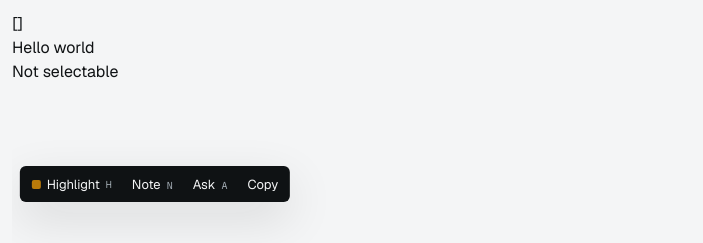
it: SelectionToolbar › Highlight adds a highlight to the store with the correct offsets and clears selection
Click the button "Highlight H" at (72,184), box [23, 169, 121, 199]
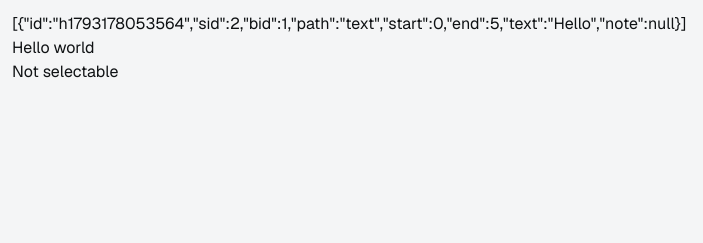
Now the button "Highlight" is gone
